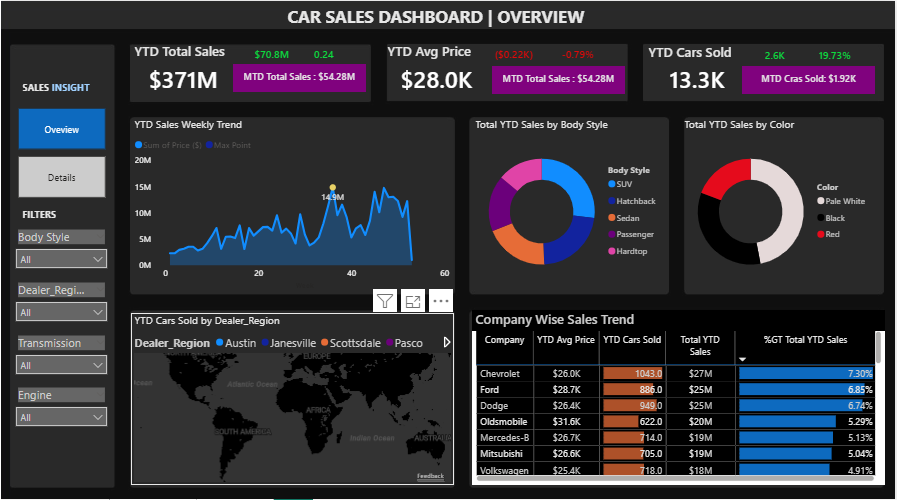

This screenshot's page, from the dashboard's own definition file:
{"tool":"powerbi","page":{"name":"Oveview","canvas":[1280,720],"ordinal":0},"visuals":[{"type":"card","title":"YTD Total Sales","fields":{"Values":["car_data.Total YTD"]},"box":[188.1,58.8,149.5,80.6],"z":0},{"type":"card","title":"YTD Total Sales","fields":{"Values":["car_data.Sales Difference"]},"box":[352.8,58.8,73.9,40.3],"z":1000},{"type":"card","title":"YTD Total Sales","fields":{"Values":["car_data.YoY Sales Growth"]},"box":[426.7,58.8,73.9,40.3],"z":2000},{"type":"card","fields":{"Values":["car_data.MTD KPI"]},"box":[334.3,90.7,189.8,40.3],"z":3000},{"type":"card","title":"YTD Avg Price","fields":{"Values":["car_data.YTD Avg Price"]},"box":[549.3,58.8,149.5,80.6],"z":4000},{"type":"card","title":"YTD Total Sales","fields":{"Values":["car_data.Avg Price Diff"]},"box":[698.8,58.8,73.9,40.3],"z":5000},{"type":"card","title":"YTD Total Sales","fields":{"Values":["car_data.YoY Avg Price Growth"]},"box":[789.5,58.8,73.9,40.3],"z":6000},{"type":"card","fields":{"Values":["car_data.MTD KPI"]},"box":[703.8,92.4,189.8,40.3],"z":7000},{"type":"card","title":"YTD Cars Sold","fields":{"Values":["car_data.YTD Cars Sold"]},"box":[922.7,59.5,148.8,79.4],"z":8000},{"type":"card","title":"YTD Total Sales","fields":{"Values":["car_data.Cars Sold Diff"]},"box":[1071.5,59.5,73.7,39.7],"z":9000},{"type":"card","title":"YTD Total Sales","fields":{"Values":["car_data.YoY Car Sold Growth"]},"box":[1156.5,59.5,73.7,39.7],"z":10000},{"type":"card","fields":{"Values":["car_data.MTD Cars Sold KPI"]},"box":[1060.9,92.3,190.3,40.4],"z":11000},{"type":"areaChart","title":"YTD Sales Weekly Trend","fields":{"Category":["Calendar Table.Week"],"Y":["Sum(car_data.Price ($))","car_data.Max Point"]},"box":[188.8,165.8,462.7,250.8],"z":12000},{"type":"donutChart","fields":{"Category":["car_data.Body Style"],"Y":["car_data.Total YTD Sales"]},"box":[675.3,166.3,277.2,250.3],"z":13000},{"type":"donutChart","fields":{"Y":["car_data.Total YTD Sales"],"Category":["car_data.Color"]},"box":[974.3,166.3,277.2,250.3],"z":14000},{"type":"azureMap","fields":{"Series":["car_data.Dealer_Region"],"Size":["car_data.YTD Cars Sold"]},"box":[188.1,445.1,461.9,246.9],"z":15000},{"type":"tableEx","title":"Company Wise Sales Trend","fields":{"Values":["car_data.Company","car_data.YTD Avg Price","car_data.YTD Cars Sold","car_data.Total YTD Sales1","car_data.Total YTD Sales"]},"box":[676.3,441.8,590.3,249.6],"z":16000},{"type":"textbox","box":[407.1,0,447.1,42.9],"z":17000},{"type":"slicer","fields":{"Values":["car_data.Body Style"]},"box":[14.3,321.4,150,75.7],"z":18000},{"type":"slicer","fields":{"Values":["car_data.Dealer_Region"]},"box":[14.3,397.1,150,75.7],"z":19000},{"type":"slicer","fields":{"Values":["car_data.Transmission"]},"box":[14.3,472.9,150,75.7],"z":20000},{"type":"slicer","fields":{"Values":["car_data.Engine"]},"box":[14.3,547.1,150,75.7],"z":21000},{"type":"textbox","box":[28.6,291.4,72.9,30],"z":22000},{"type":"textbox","box":[28.6,110,135.7,30],"z":23000},{"type":"pageNavigator","box":[27.1,152.9,125.7,128.6],"z":24000}]}

Visuals, with their boxes in screenshot pixels (x1, y1, x2, y2), scaled from the page's 1280x720 canvas onto the 897x500 screenshot:
"YTD Total Sales" card: <box>132,41,237,97</box>
"YTD Total Sales" card: <box>247,41,299,69</box>
"YTD Total Sales" card: <box>299,41,351,69</box>
card - car_data.MTD KPI: <box>234,63,367,91</box>
"YTD Avg Price" card: <box>385,41,490,97</box>
"YTD Total Sales" card: <box>490,41,541,69</box>
"YTD Total Sales" card: <box>553,41,605,69</box>
card - car_data.MTD KPI: <box>493,64,626,92</box>
"YTD Cars Sold" card: <box>647,41,751,96</box>
"YTD Total Sales" card: <box>751,41,803,69</box>
"YTD Total Sales" card: <box>810,41,862,69</box>
card - car_data.MTD Cars Sold KPI: <box>743,64,877,92</box>
"YTD Sales Weekly Trend" areaChart: <box>132,115,457,289</box>
donutChart - car_data.Body Style x car_data.Total YTD Sales: <box>473,115,667,289</box>
donutChart - car_data.Total YTD Sales x car_data.Color: <box>683,115,877,289</box>
azureMap - car_data.Dealer_Region x car_data.YTD Cars Sold: <box>132,309,456,481</box>
"Company Wise Sales Trend" tableEx: <box>474,307,888,480</box>
textbox: <box>285,0,599,30</box>
slicer - car_data.Body Style: <box>10,223,115,276</box>
slicer - car_data.Dealer_Region: <box>10,276,115,328</box>
slicer - car_data.Transmission: <box>10,328,115,381</box>
slicer - car_data.Engine: <box>10,380,115,433</box>
textbox: <box>20,202,71,223</box>
textbox: <box>20,76,115,97</box>
pageNavigator: <box>19,106,107,195</box>
